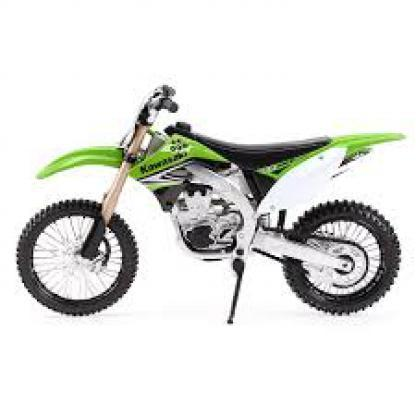Motorcycle: (14, 77, 411, 342)
